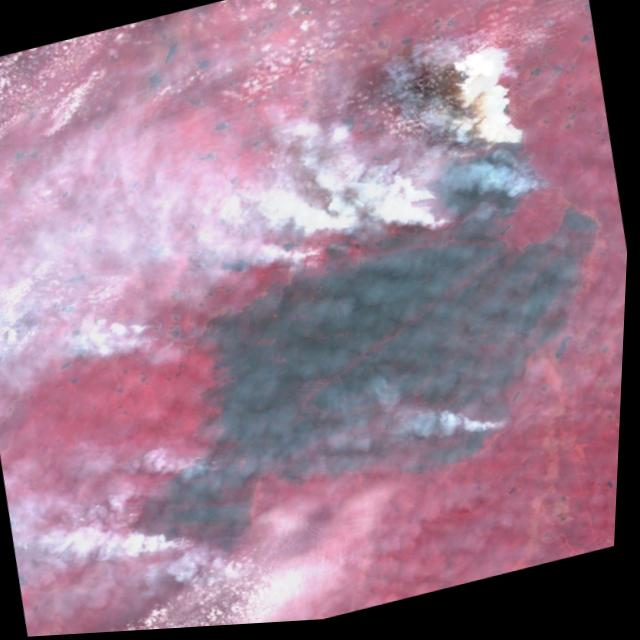fire: (108, 447, 273, 615), (408, 122, 560, 249), (319, 191, 388, 250), (112, 311, 181, 363)
